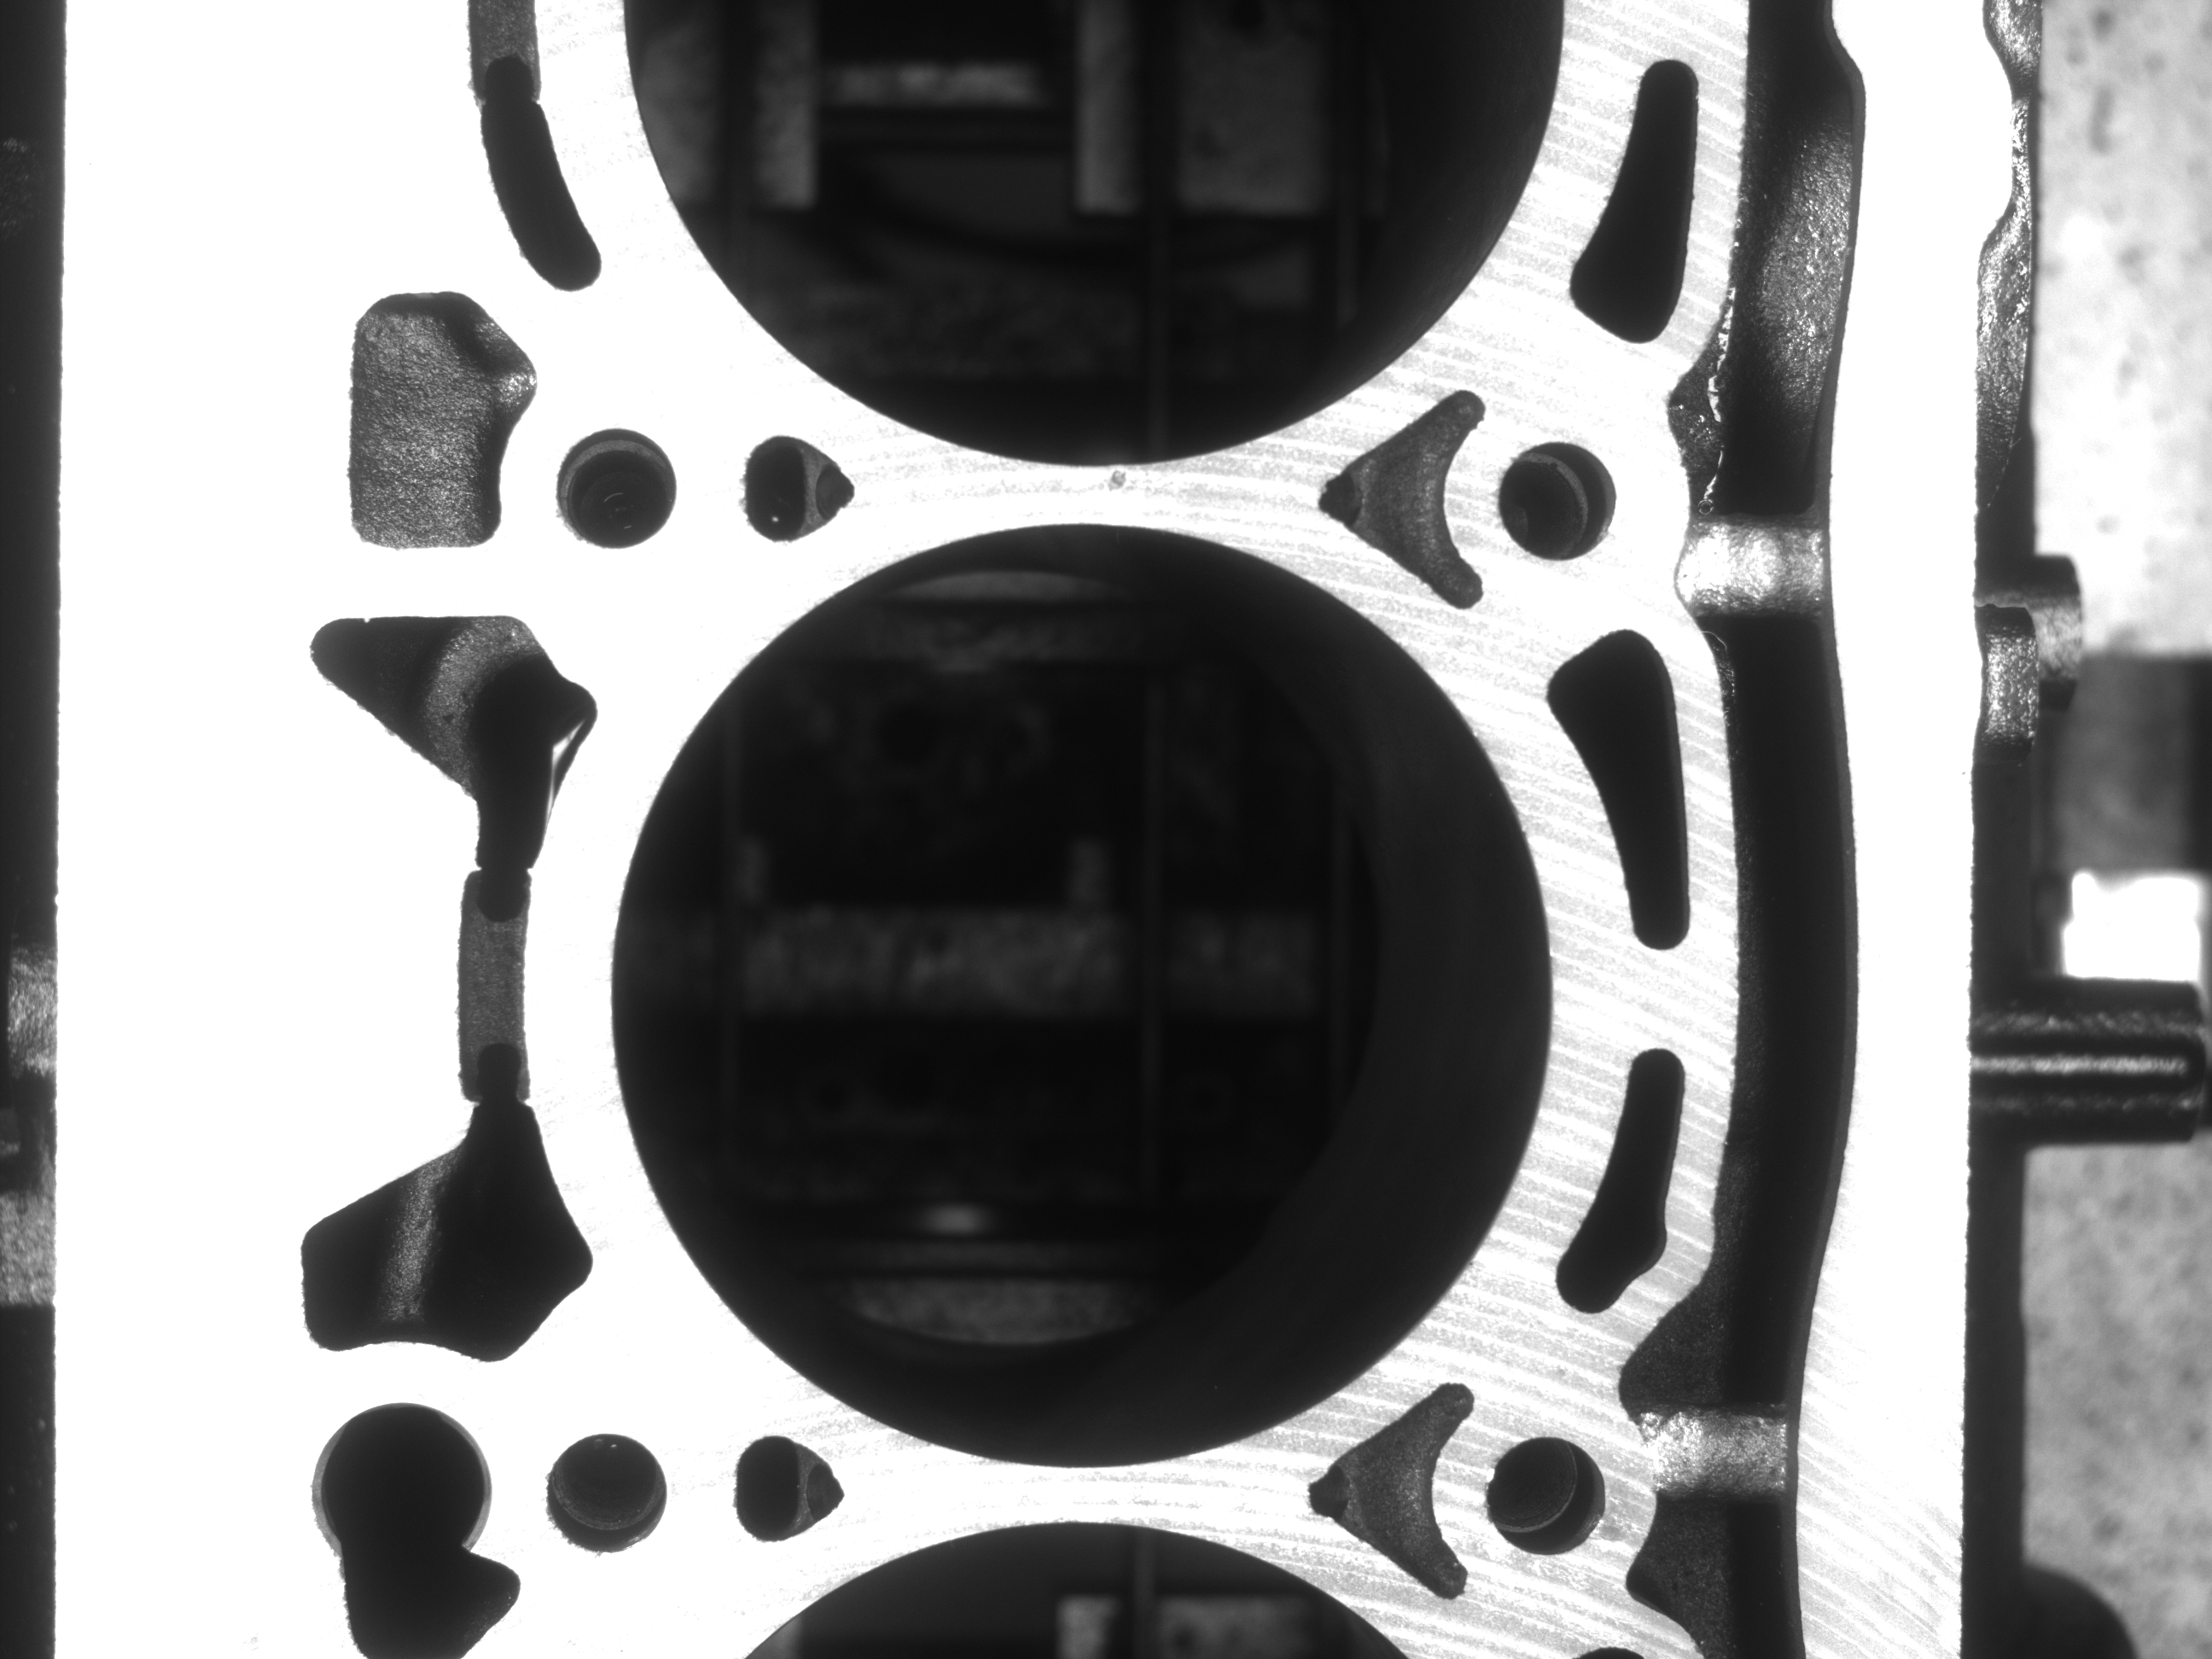shrinkage: (1098, 466, 1134, 488)
